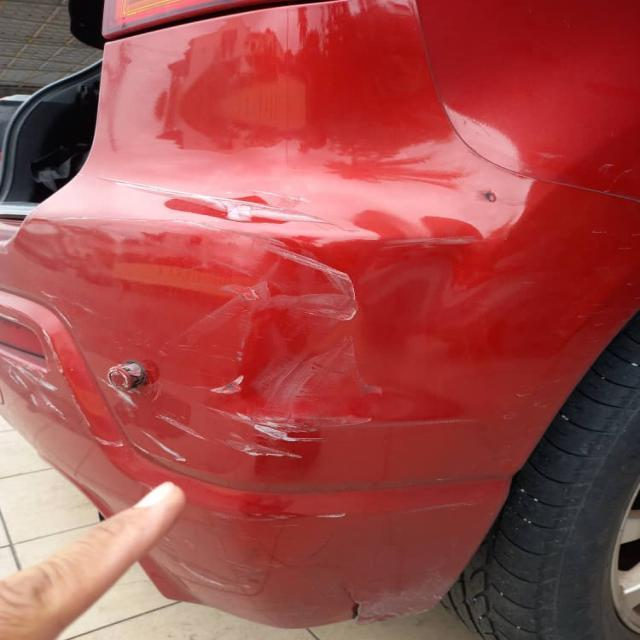scratch: (109, 238, 395, 476), (101, 171, 363, 232), (0, 310, 104, 459)
